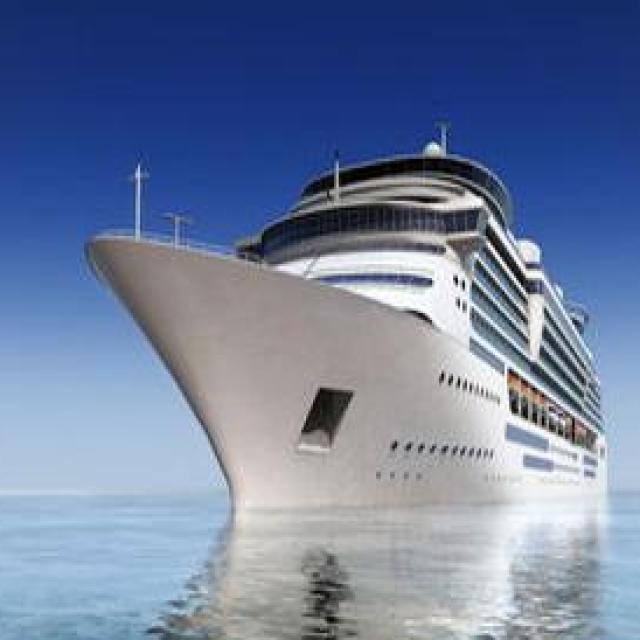passenger ship: (83, 114, 605, 522)
